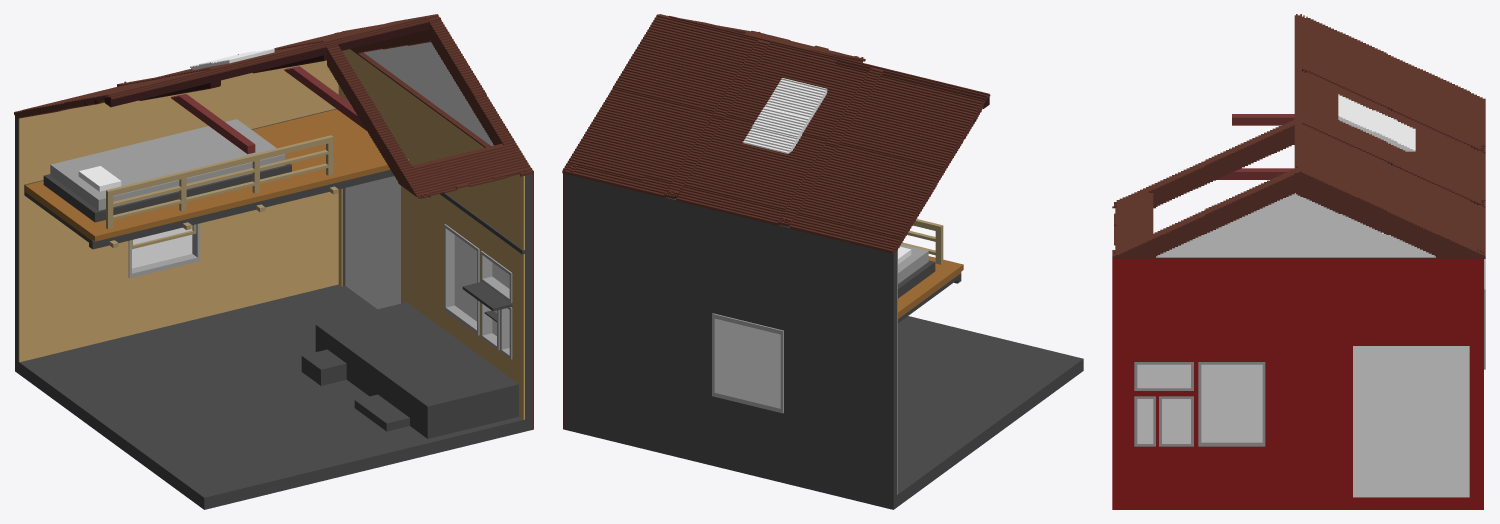
Rendered from Nhà-4.obj.
3 renders of one model, left to right at view 1: azimuth 30°, elevation 25°; view 2: azimuth 150°, elevation 25°; view 3: azimuth 270°, elevation 25°, orthographic. The views are drawn at different scales.
Bounding box in the file's own units: 25.6 × 25.6 × 25.6.
Materials: 1 (1 with a texture image).
